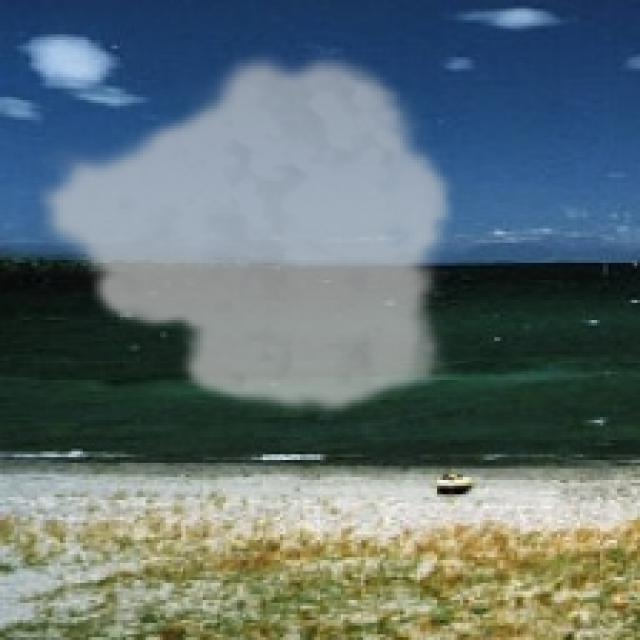smoke: (32, 46, 457, 417)
